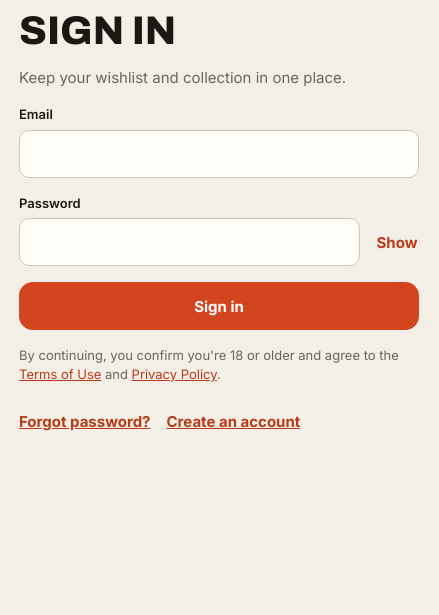
Test: Sign in › offers a new link when the email is not confirmed yet
Type "a@example.com" into the field labelled "Email" at (219, 154), box left=19, top=130, right=419, bottom=178
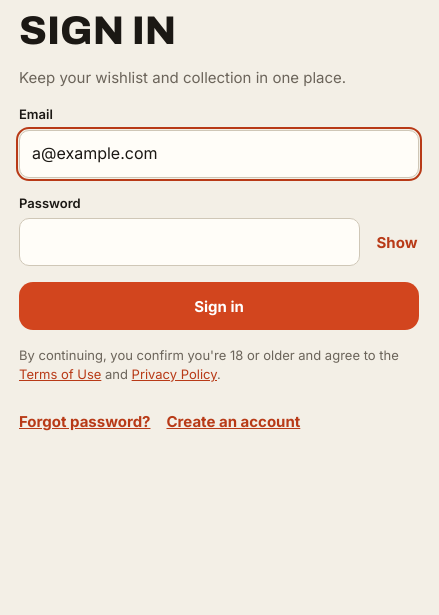
Type "long-enough-1" into the password field labelled "Password" at (190, 242), box left=19, top=218, right=360, bottom=266
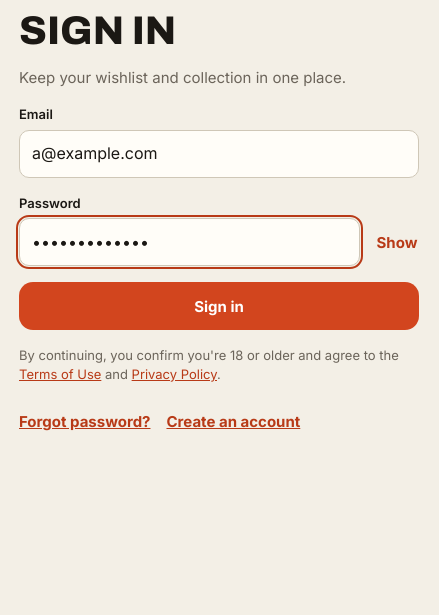
Click the button "Sign in" at (219, 306), box left=19, top=282, right=419, bottom=330
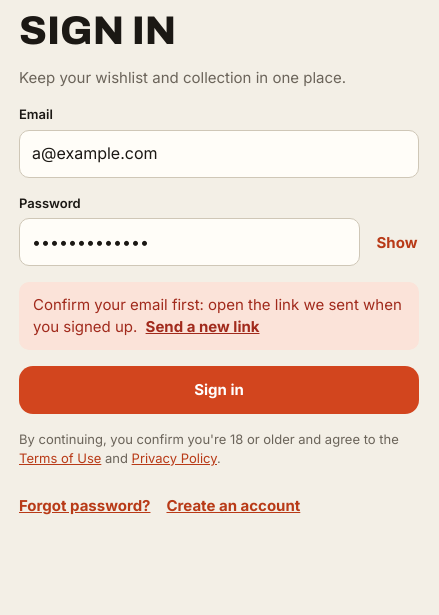
Click the button "Send a new link" at (203, 327), box left=146, top=316, right=260, bottom=338
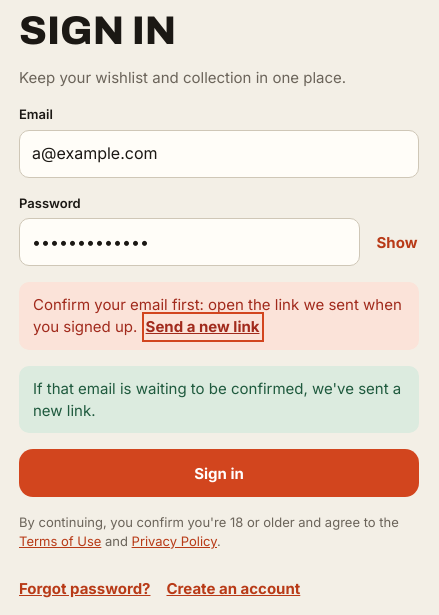
Now the message "If that email is waiting to be confirmed, we've sent a new link." is shown, box left=19, top=366, right=419, bottom=433
